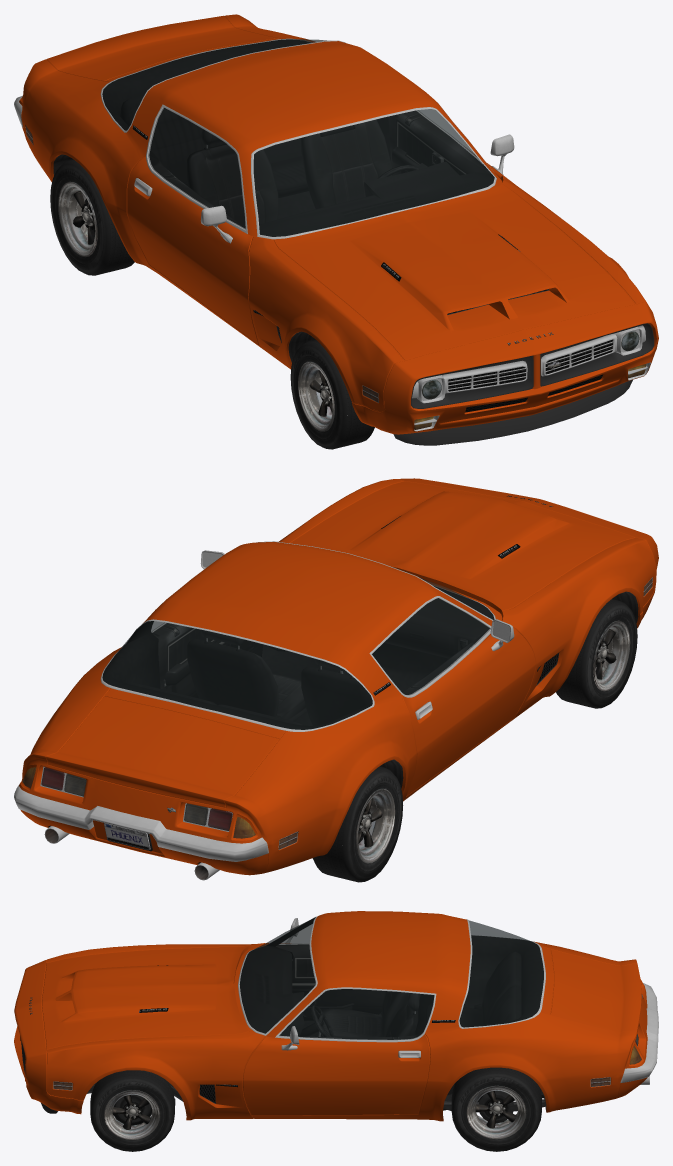
The picture shows the model from 3 angles, top to bottom: view 1: azimuth 30°, elevation 25°; view 2: azimuth 150°, elevation 25°; view 3: azimuth 270°, elevation 25°; orthographic projection. The views are drawn at different scales.
Visible parts, largest first — view 1: Body_body_0, Hood_body_0, Windshield_UCB_GLASS_CLEAN_0, Seats_GEN4DR_INTERIOR_0, Door_FR_body_0, Grill_UCB_BOTTOM_0, Trunkdoor_body_0, Doorglass_FR_UCB_GLASS_CLEAN_0, Dashboard_GEN4DR_INTERIOR_0, Wheel_RR_RIMMUSCLE_01_0, Wheel_FR_RIMMUSCLE_01_0, Interior_GEN4DR_INTERIOR_0 (+7 smaller); view 2: Body_body_0, Hood_body_0, Glass_rear_UCB_GLASS_CLEAN_0, Trunkdoor_body_0, Door_FR_body_0, Seats_GEN4DR_INTERIOR_0, Interior_GEN4DR_INTERIOR_0, Doorglass_FR_UCB_GLASS_CLEAN_0, Wheel_RR_RIMMUSCLE_01_0, Wheel_FR_RIMMUSCLE_01_0, Bumper_rear, Dashboard_GEN4DR_INTERIOR_0 (+9 smaller); view 3: Body_body_0, Hood_body_0, Door_FL_body_0, Glass_rear_UCB_GLASS_CLEAN_0, Doorglass_FL_UCB_GLASS_CLEAN_0, Wheel_RL_RIMMUSCLE_01_0, Seats_GEN4DR_INTERIOR_0, Trunkdoor_body_0, Windshield_UCB_GLASS_CLEAN_0, Wheel_FL_RIMMUSCLE_01_0, Interior_GEN4DR_INTERIOR_0, Dashboard_GEN4DR_INTERIOR_0 (+8 smaller).
Boxes of the visible parts, x1,y1,x2,y2 form: Body_body_0: (19, 14, 658, 434); Hood_body_0: (274, 184, 634, 360); Windshield_UCB_GLASS_CLEAN_0: (254, 109, 494, 236); Seats_GEN4DR_INTERIOR_0: (120, 95, 391, 227); Door_FR_body_0: (127, 157, 258, 344); Grill_UCB_BOTTOM_0: (411, 323, 654, 408); Trunkdoor_body_0: (46, 15, 278, 81); Doorglass_FR_UCB_GLASS_CLEAN_0: (148, 107, 245, 229); Dashboard_GEN4DR_INTERIOR_0: (259, 162, 494, 236); Wheel_RR_RIMMUSCLE_01_0: (50, 159, 134, 275); Wheel_FR_RIMMUSCLE_01_0: (290, 340, 374, 449); Interior_GEN4DR_INTERIOR_0: (102, 39, 492, 219); Body_body_0: (19, 478, 658, 875); Hood_body_0: (290, 481, 634, 612); Glass_rear_UCB_GLASS_CLEAN_0: (102, 621, 372, 729); Trunkdoor_body_0: (46, 696, 279, 807); Door_FR_body_0: (401, 628, 535, 795); Seats_GEN4DR_INTERIOR_0: (126, 629, 372, 725); Interior_GEN4DR_INTERIOR_0: (102, 621, 448, 729); Doorglass_FR_UCB_GLASS_CLEAN_0: (372, 598, 490, 694); Wheel_RR_RIMMUSCLE_01_0: (312, 766, 403, 882); Wheel_FR_RIMMUSCLE_01_0: (556, 599, 637, 708); Bumper_rear: (14, 785, 268, 861); Dashboard_GEN4DR_INTERIOR_0: (384, 586, 494, 658); Body_body_0: (14, 911, 647, 1121); Hood_body_0: (42, 946, 249, 1049); Door_FL_body_0: (243, 1034, 429, 1115); Glass_rear_UCB_GLASS_CLEAN_0: (459, 920, 543, 1027); Doorglass_FL_UCB_GLASS_CLEAN_0: (279, 989, 433, 1039); Wheel_RL_RIMMUSCLE_01_0: (451, 1067, 541, 1151); Seats_GEN4DR_INTERIOR_0: (321, 951, 521, 1037); Trunkdoor_body_0: (550, 949, 641, 1032); Windshield_UCB_GLASS_CLEAN_0: (240, 918, 315, 1033); Wheel_FL_RIMMUSCLE_01_0: (90, 1070, 174, 1151); Interior_GEN4DR_INTERIOR_0: (266, 917, 543, 1036); Dashboard_GEN4DR_INTERIOR_0: (240, 946, 304, 1036).
Size of the model in its own units: 2.09 by 1.33 by 4.89.
Materials: 8 (7 with a texture image).
